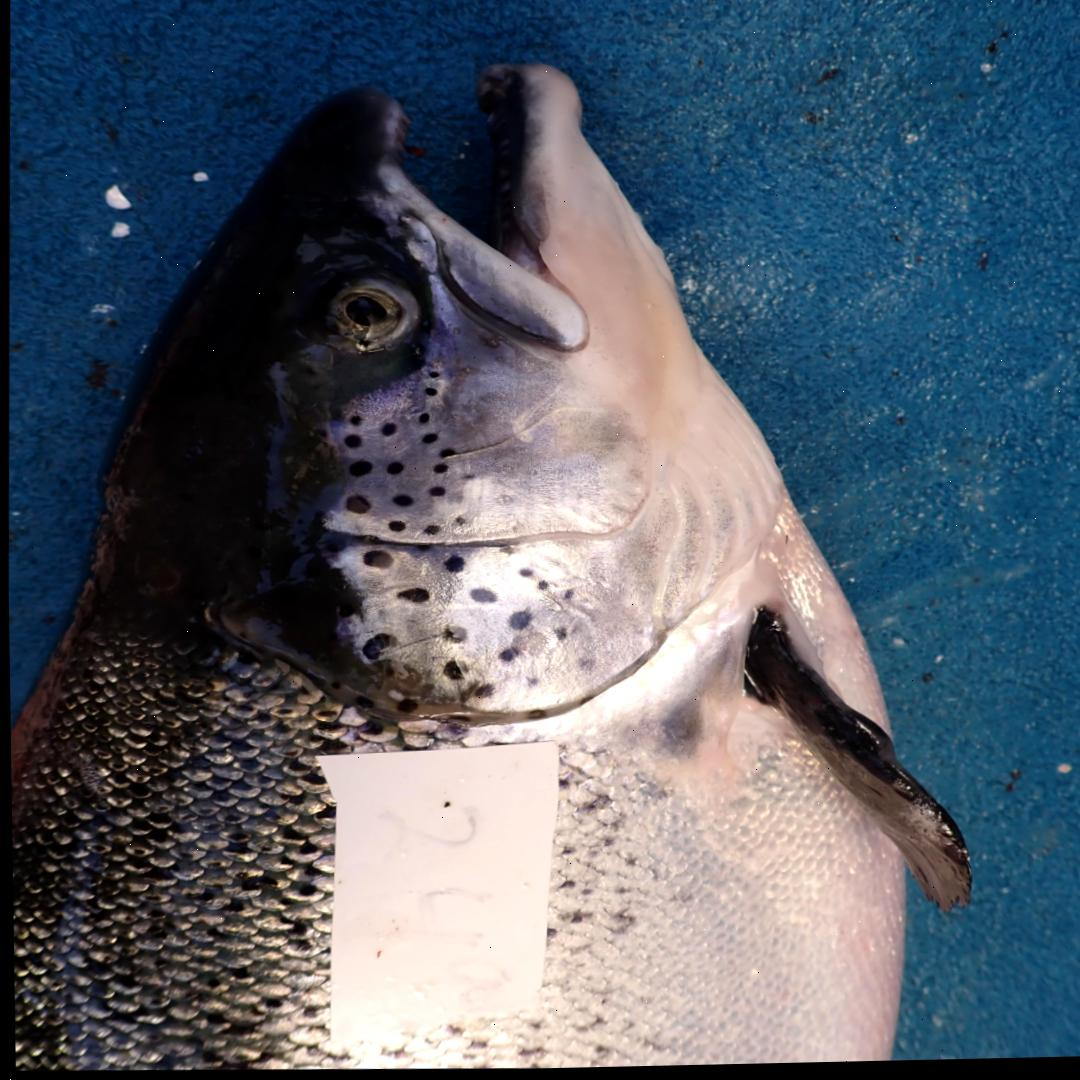spot: (358, 636, 393, 662), (495, 643, 524, 666), (396, 589, 427, 606), (342, 497, 368, 516), (467, 589, 496, 606), (441, 662, 464, 683), (362, 553, 390, 570), (392, 700, 418, 718), (507, 613, 530, 632), (404, 544, 436, 557), (441, 628, 464, 645), (348, 463, 371, 478), (442, 557, 462, 574), (575, 660, 595, 677), (516, 712, 544, 723), (471, 686, 492, 700), (390, 497, 411, 508), (385, 465, 402, 478), (342, 437, 359, 450), (436, 450, 456, 460), (552, 630, 567, 643), (422, 527, 439, 538), (419, 435, 437, 445), (387, 523, 405, 533), (516, 570, 533, 580), (379, 426, 394, 437), (428, 488, 442, 499), (498, 548, 515, 557), (348, 416, 361, 427), (453, 518, 465, 529), (416, 415, 428, 425), (535, 583, 547, 593), (431, 467, 445, 475), (423, 390, 437, 398), (562, 593, 573, 602), (524, 681, 536, 688), (428, 373, 438, 381), (463, 476, 472, 482)
